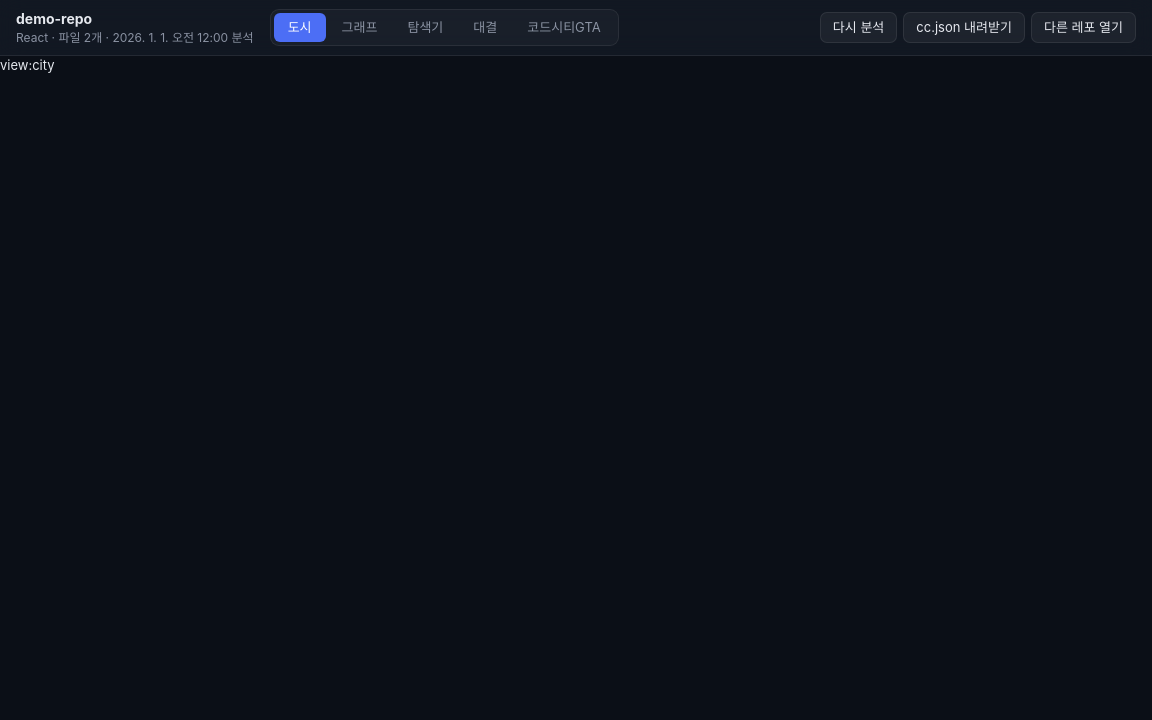
Test: ViewerShell › a view whose mount throws shows the load-error note instead of a blank tab
Expected: the text "view:city" is shown, [0,57,55,73]
What coordinates should you click on to do the following:
click the tab "그래프"
I would click on:
 (359, 28)
Its box is [328,13,391,42].
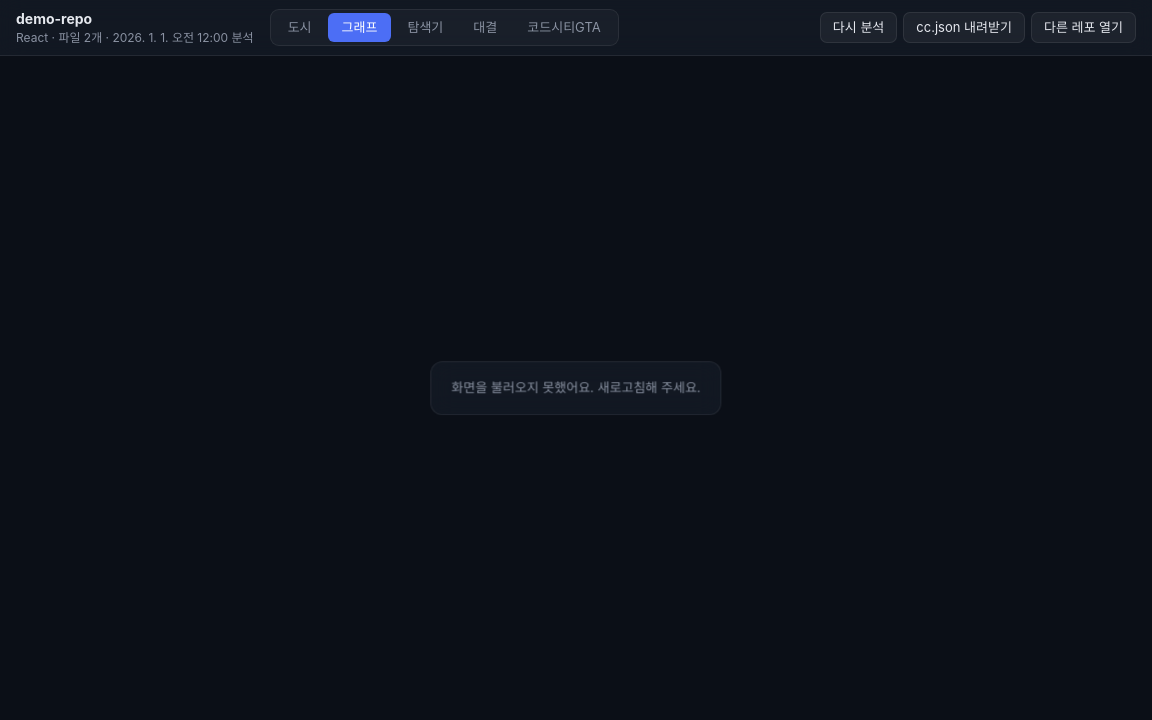
Now the text "화면을 불러오지 못했어요. 새로고침해 주세요." is shown, box [430,361,722,415]
What coordinates should you click on to do the following:
click the tab "탐색기"
I would click on:
 (425, 28)
Its box is [393,13,457,42].
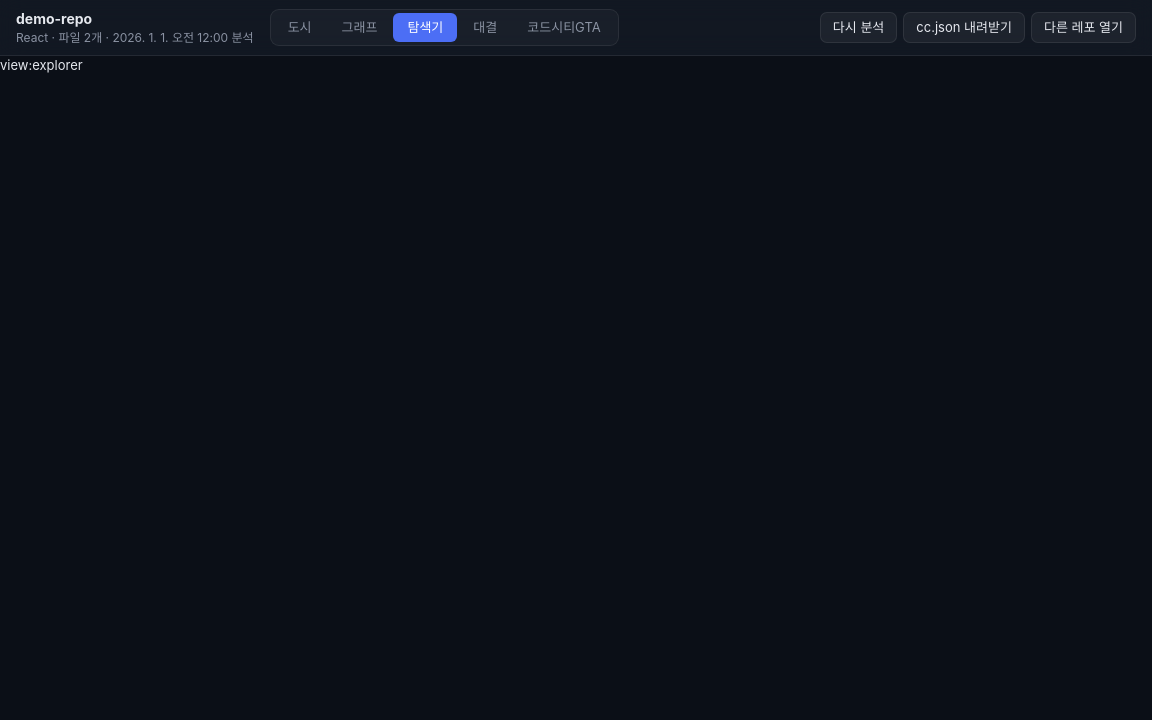
Now the text "view:explorer" is shown, box [0,57,83,73]
Now the text "화면을 불러오지 못했어요. 새로고침해 주세요." is gone
